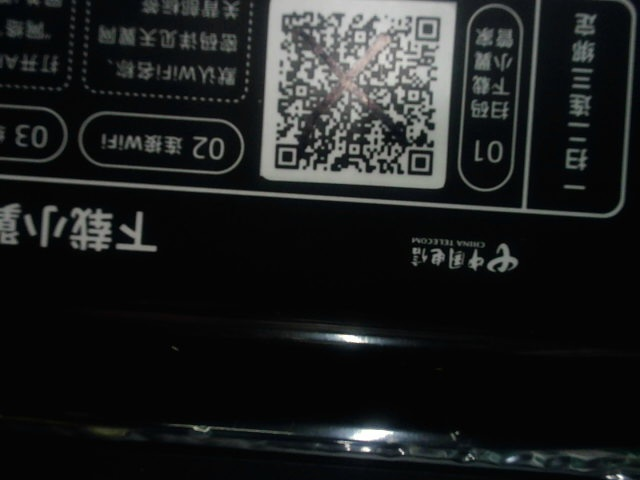AB_ChinaTelecom: (407, 230, 519, 276)
